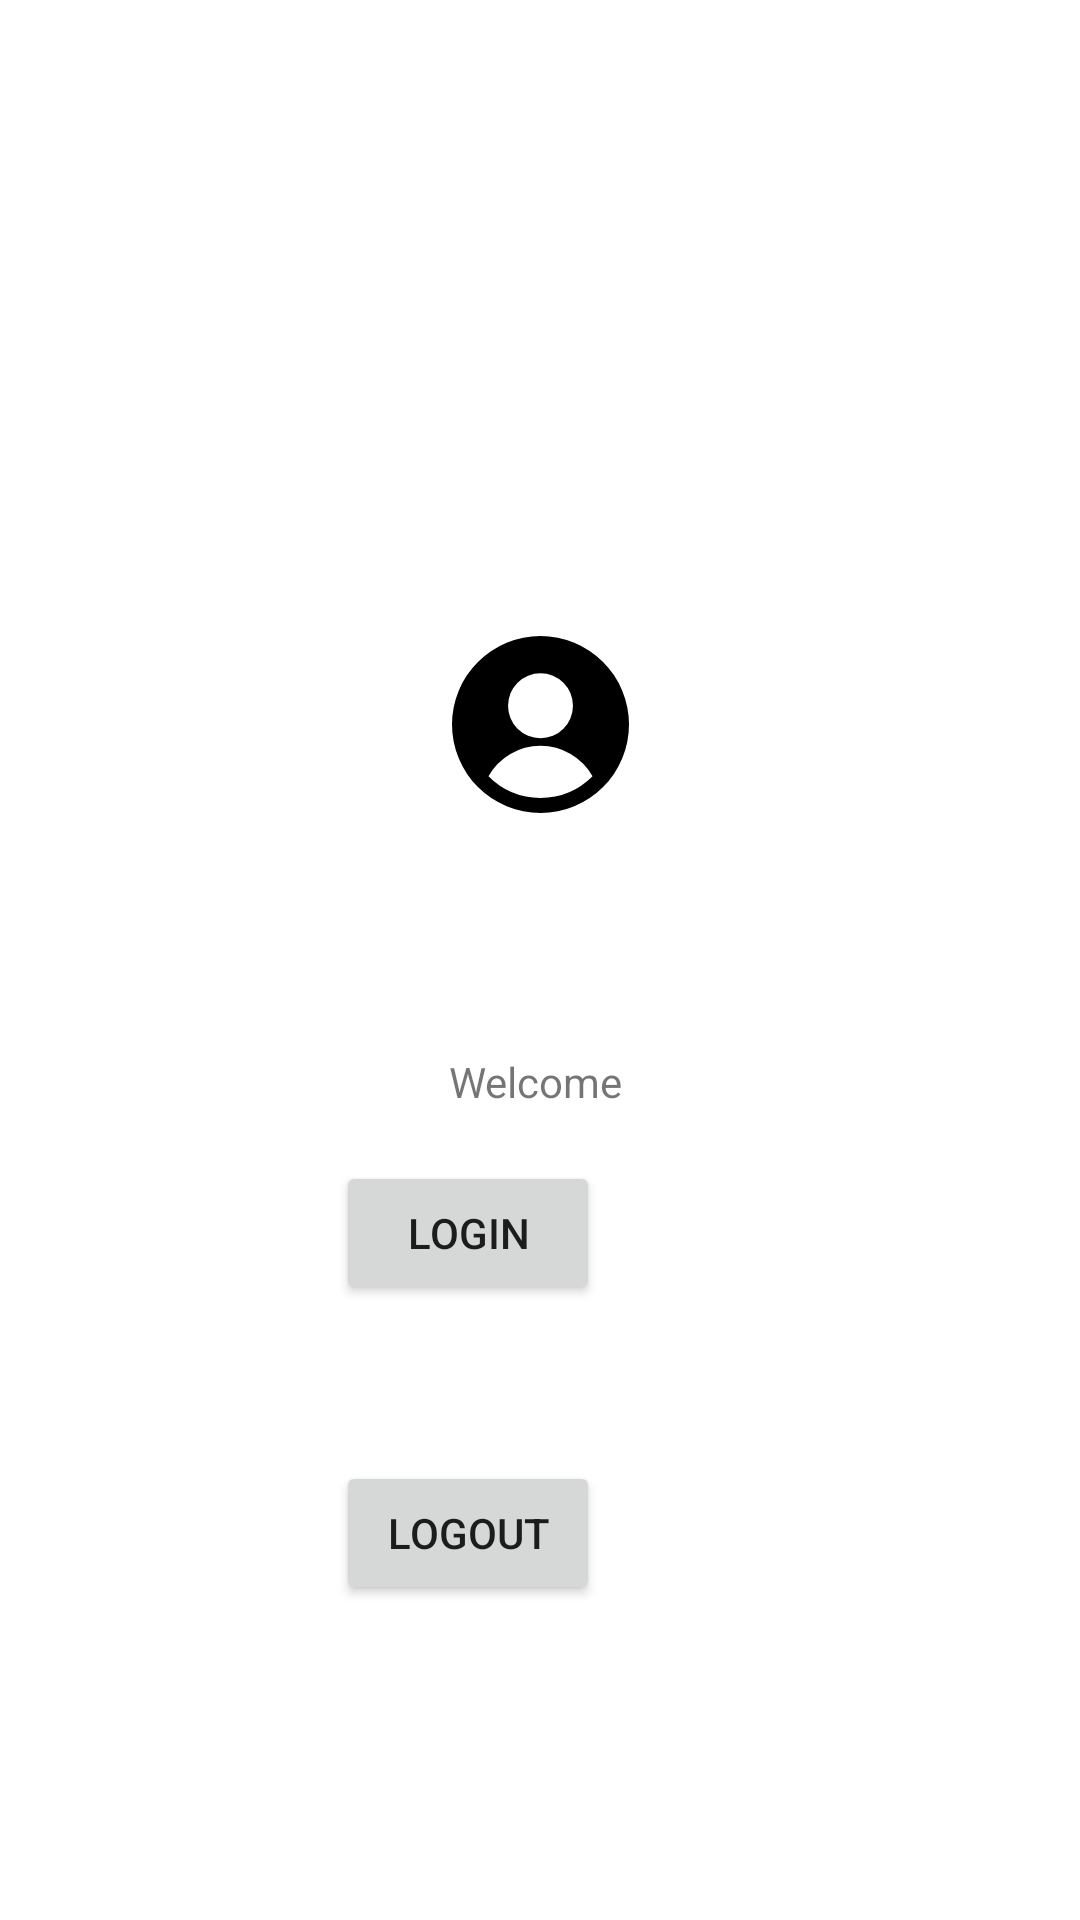

Icon click points for this 1080x1920 phone screenshot, format (x=x, y=y):
account circle: (x=540, y=724)
